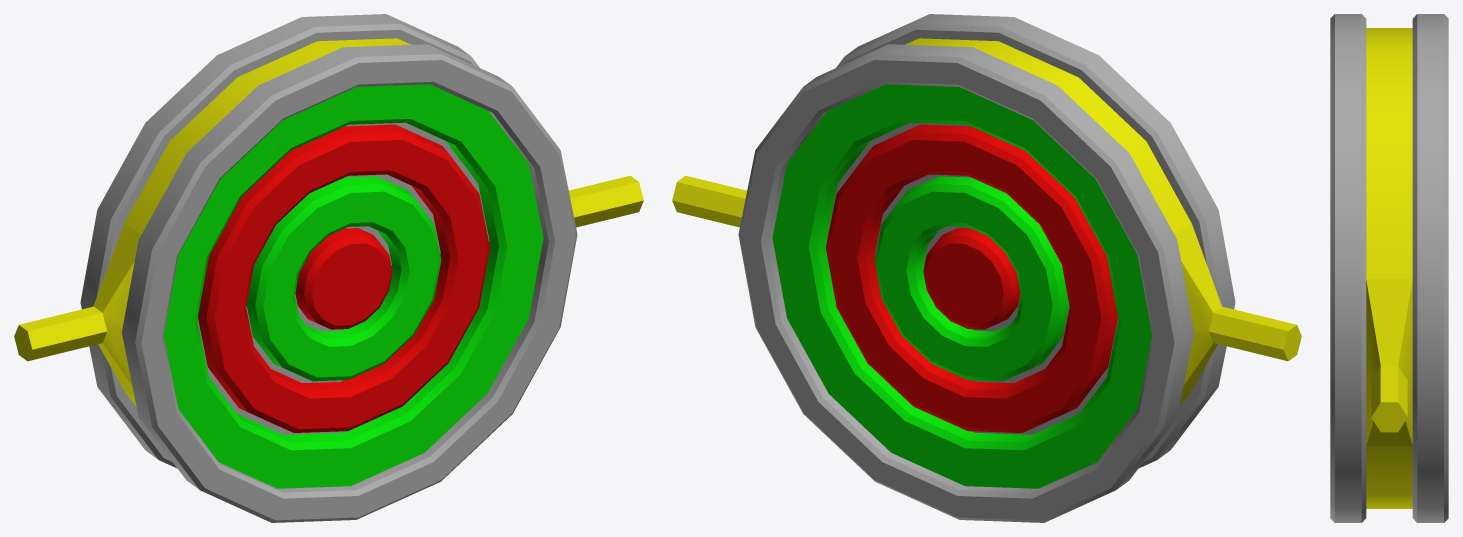
File: Enemy_Target.fbx
3 views of the same model, side by side, from view 1: azimuth 30°, elevation 25°; view 2: azimuth 150°, elevation 25°; view 3: azimuth 270°, elevation 25° (orthographic).
Visible parts, largest first — view 1: Enemy_Target; view 2: Enemy_Target; view 3: Enemy_Target.
Boxes of the visible parts, x1,y1,x2,y2 form: Enemy_Target: (14,14,643,522); Enemy_Target: (672,14,1301,522); Enemy_Target: (1330,14,1448,522).
Size of the model in its own units: 2.77 by 2.01 by 0.4658.
